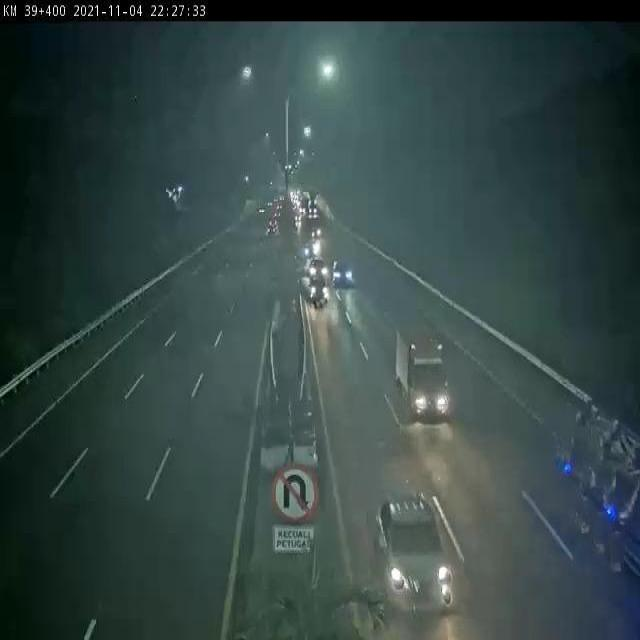car: (375, 497, 454, 611), (330, 257, 355, 283), (308, 274, 331, 302)
truck-s-: (394, 331, 453, 424)
truck-xl-: (549, 399, 640, 580)
